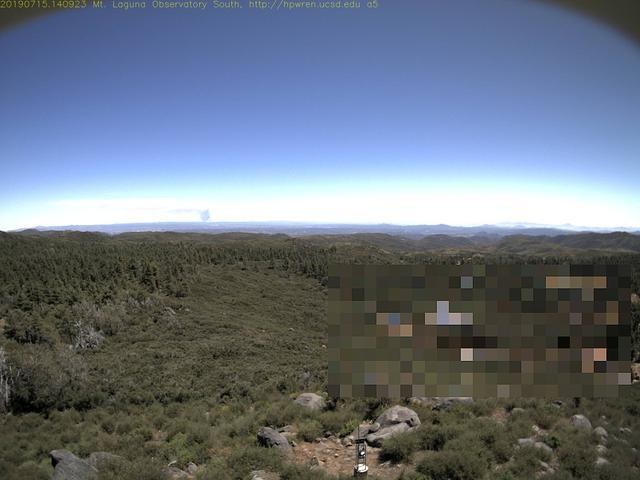smoke: (184, 208, 219, 225)
